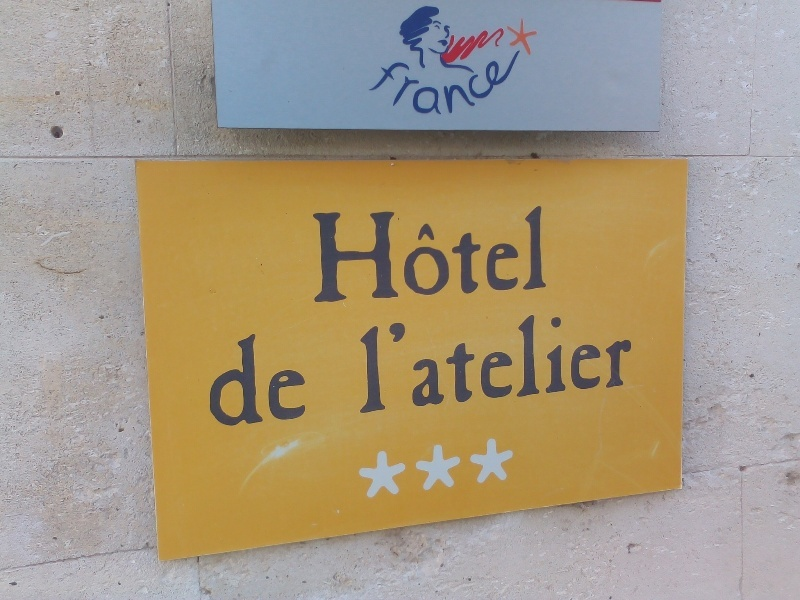text: (369, 303, 384, 415), (385, 303, 400, 415), (401, 303, 416, 415), (417, 303, 432, 415), (433, 303, 448, 415), (449, 303, 464, 415), (465, 303, 480, 415), (481, 303, 496, 415), (497, 303, 512, 415), (513, 303, 528, 415), (529, 303, 544, 415), (545, 303, 560, 415), (561, 303, 576, 415), (577, 303, 592, 415), (593, 303, 608, 415), (609, 303, 624, 415), (321, 203, 336, 307), (337, 203, 352, 307), (353, 203, 368, 307), (369, 203, 384, 307), (385, 203, 400, 307), (401, 203, 416, 307), (417, 203, 432, 307), (433, 203, 448, 307), (449, 203, 464, 307), (465, 203, 480, 307), (481, 203, 496, 307), (497, 203, 512, 307), (513, 203, 528, 307), (529, 203, 544, 307), (209, 329, 224, 429), (225, 329, 240, 429), (241, 329, 256, 429), (257, 329, 272, 429), (273, 329, 288, 429), (289, 329, 304, 429), (356, 303, 368, 415), (625, 303, 635, 415), (369, 47, 384, 118), (385, 47, 400, 118), (401, 47, 416, 118), (417, 47, 432, 118), (433, 47, 448, 118), (449, 47, 464, 118), (465, 47, 480, 118), (481, 47, 496, 118), (497, 47, 512, 118), (310, 203, 320, 307), (369, 434, 384, 502), (385, 434, 400, 502), (401, 434, 416, 502), (417, 434, 432, 502), (433, 434, 448, 502), (449, 434, 464, 502), (465, 434, 480, 502), (481, 434, 496, 502), (497, 434, 512, 502), (199, 329, 208, 429), (513, 47, 524, 118), (545, 203, 552, 307), (305, 329, 311, 429), (360, 434, 368, 502), (513, 434, 517, 502), (367, 47, 368, 118)
